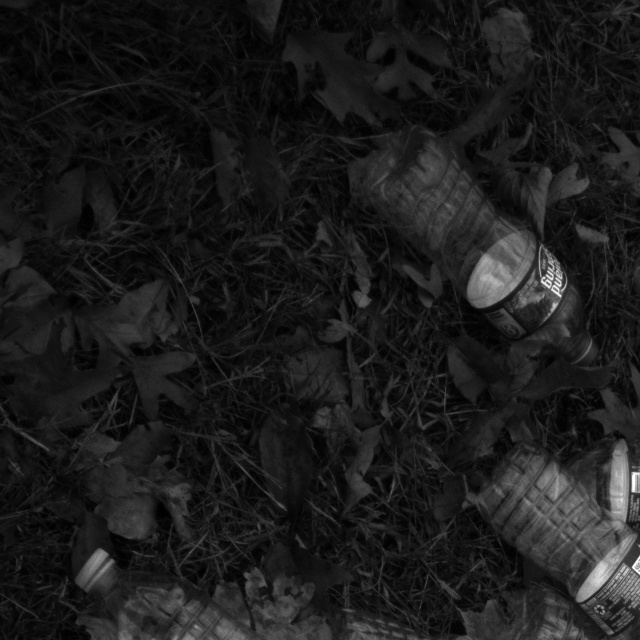bottle: (350, 121, 603, 365), (470, 452, 640, 640), (63, 548, 358, 640), (547, 433, 640, 538), (488, 584, 639, 640)
